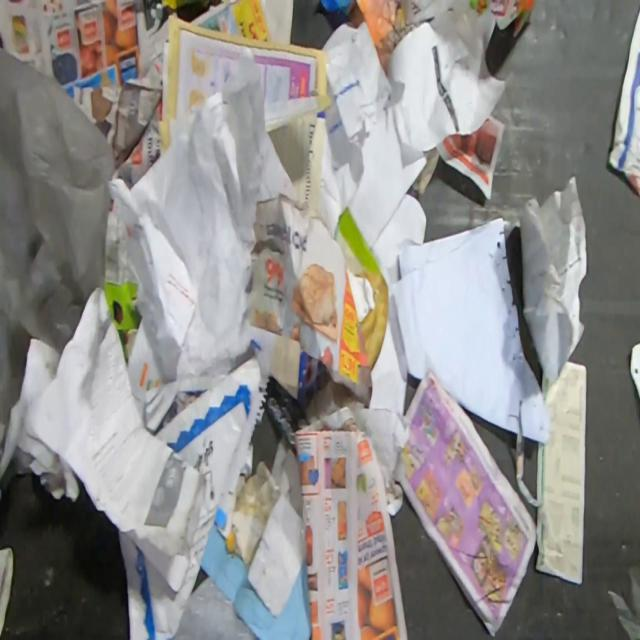soft_plastic: (0, 44, 117, 466)
